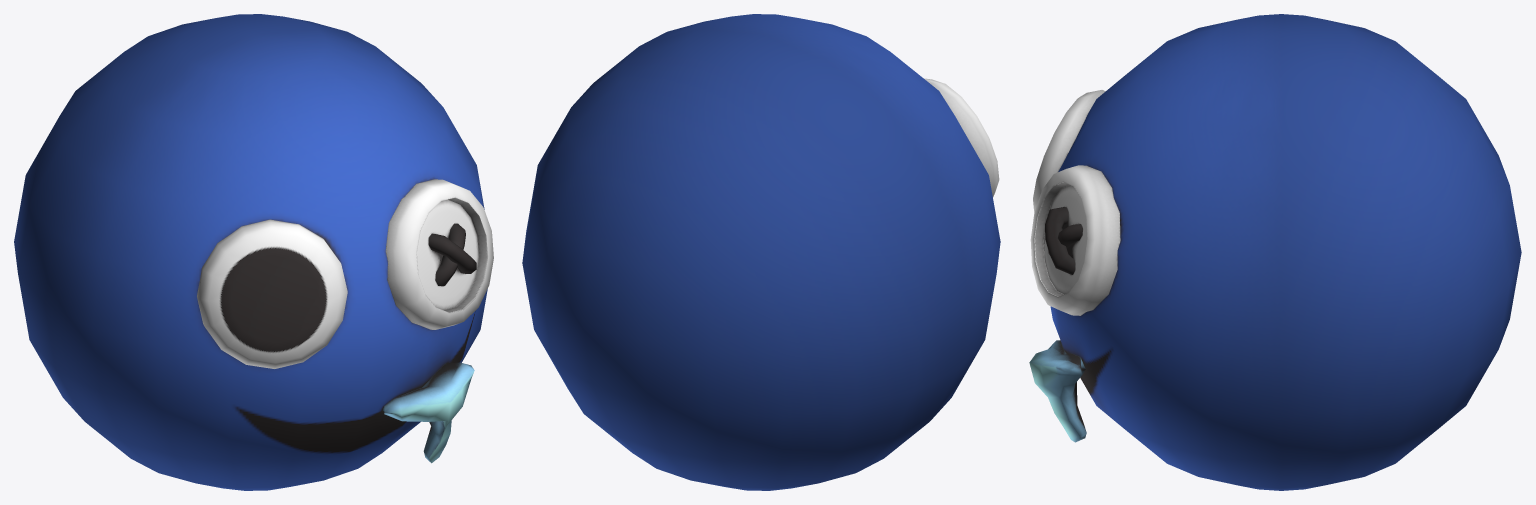
The model's file is 57_Ball_BlueMonster.fbx.
3 views of the same model, side by side, from view 1: azimuth 30°, elevation 25°; view 2: azimuth 150°, elevation 25°; view 3: azimuth 270°, elevation 25° (orthographic).
Parts seen in each view (by area): view 1: Ball_BlueMonster; view 2: Ball_BlueMonster; view 3: Ball_BlueMonster.
Part boxes in pixels (<box>): Ball_BlueMonster: <box>14,14,493,490</box>; Ball_BlueMonster: <box>522,14,1000,490</box>; Ball_BlueMonster: <box>1029,14,1521,490</box>.
Size of the model in its own units: 0.3819 by 0.3819 by 0.3913.
